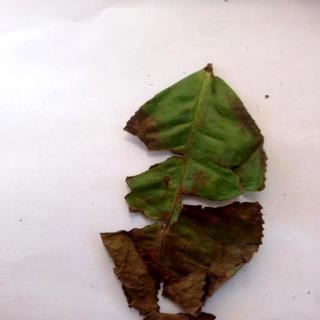Algal Leaf: (103, 65, 271, 320)
